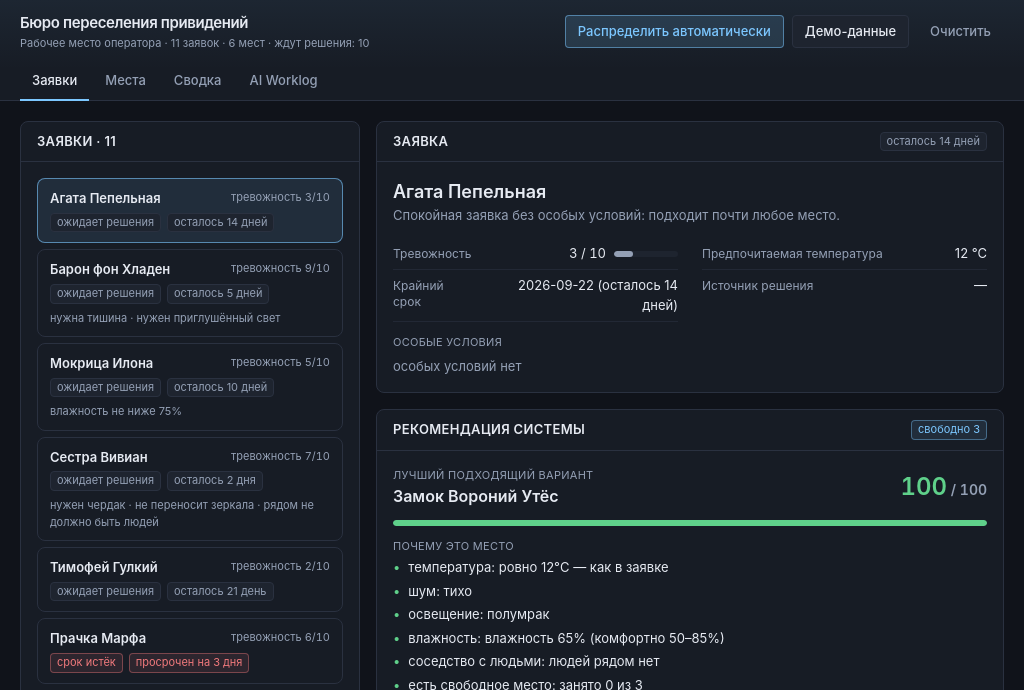
Test: исправления по итогам ревью › очистка реестра требует подтверждения
Click the button "Очистить" at [961, 32], box [917,15,1004,48]
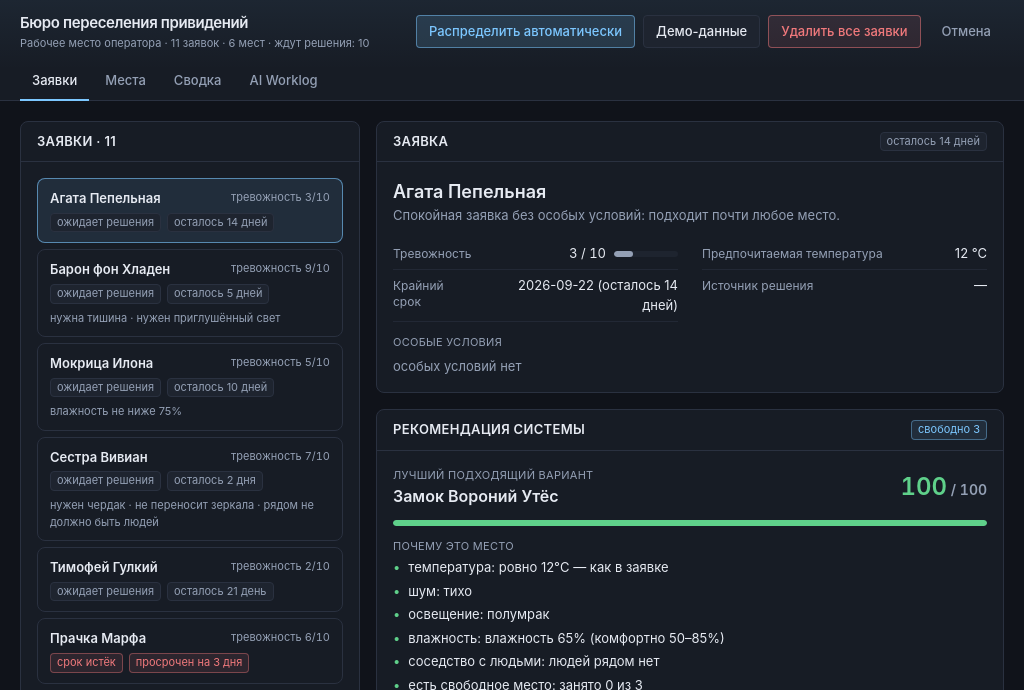
Expected: the button "Агата Пепельная" is shown, [37,178,343,243]
Now the button "Удалить все заявки" is shown, box [768,15,921,48]
Click the button "Отмена" at [966, 32], box [929,15,1004,48]
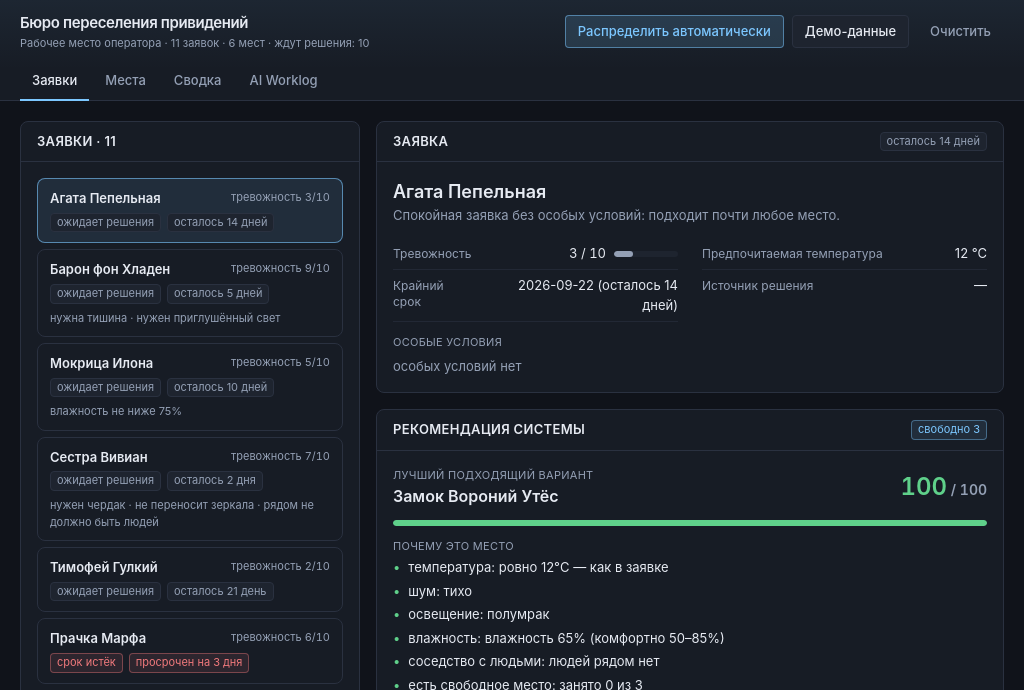
Expected: the button "Агата Пепельная" is shown, [37,178,343,243]
Now the button "Удалить все заявки" is gone
Click the button "Очистить" at [961, 32], box [917,15,1004,48]
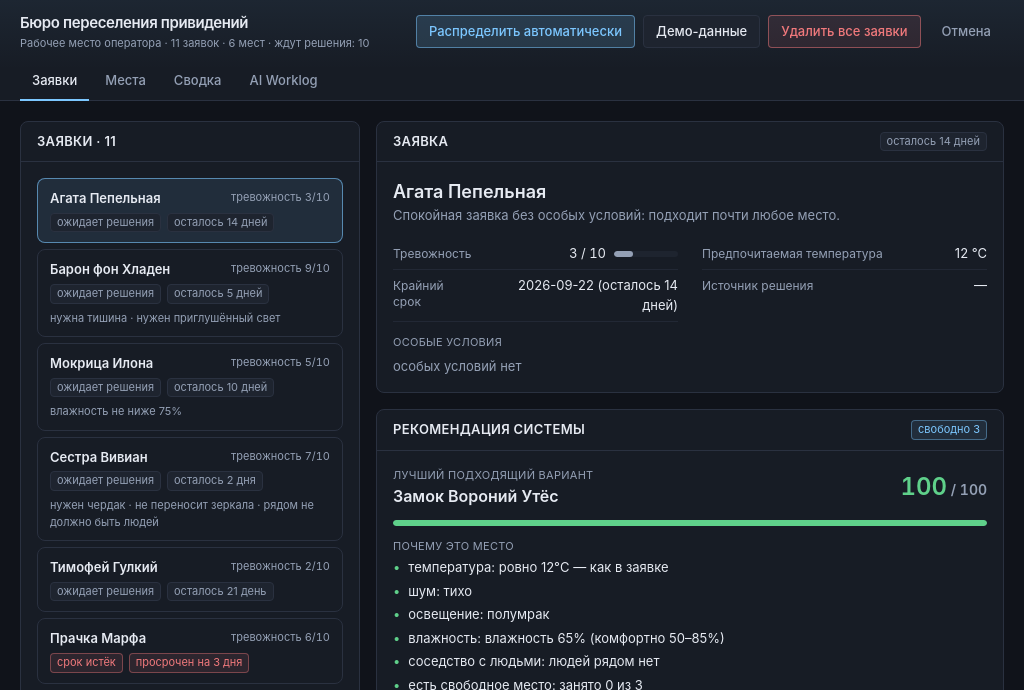
Click the button "Удалить все заявки" at [844, 32], box [768,15,921,48]
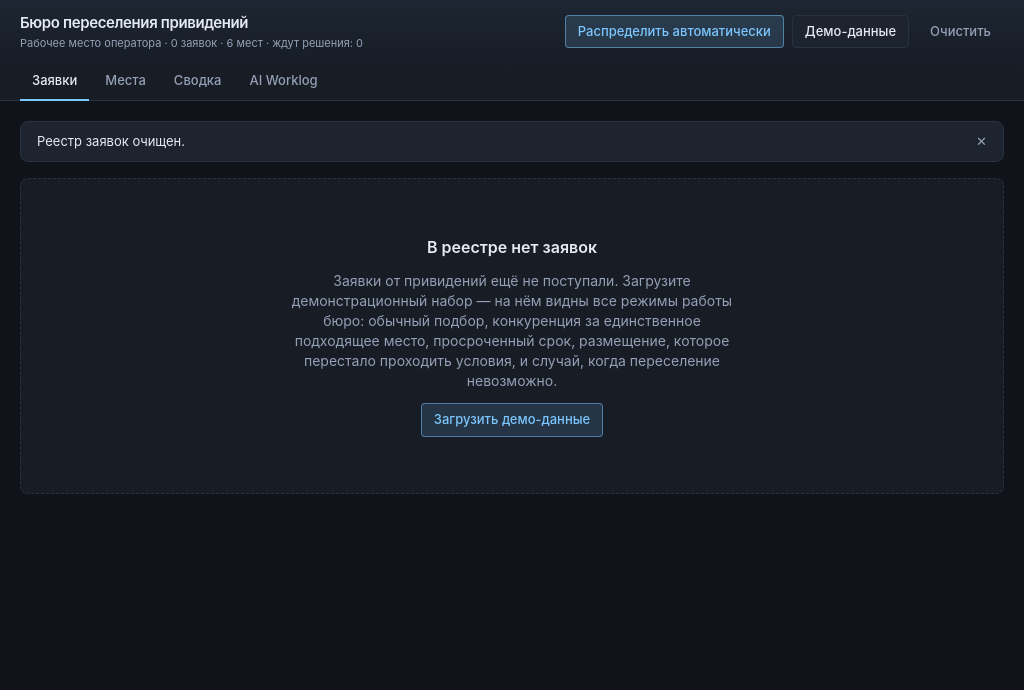
Now the text "В реестре нет заявок" is shown, box [427,235,597,259]
